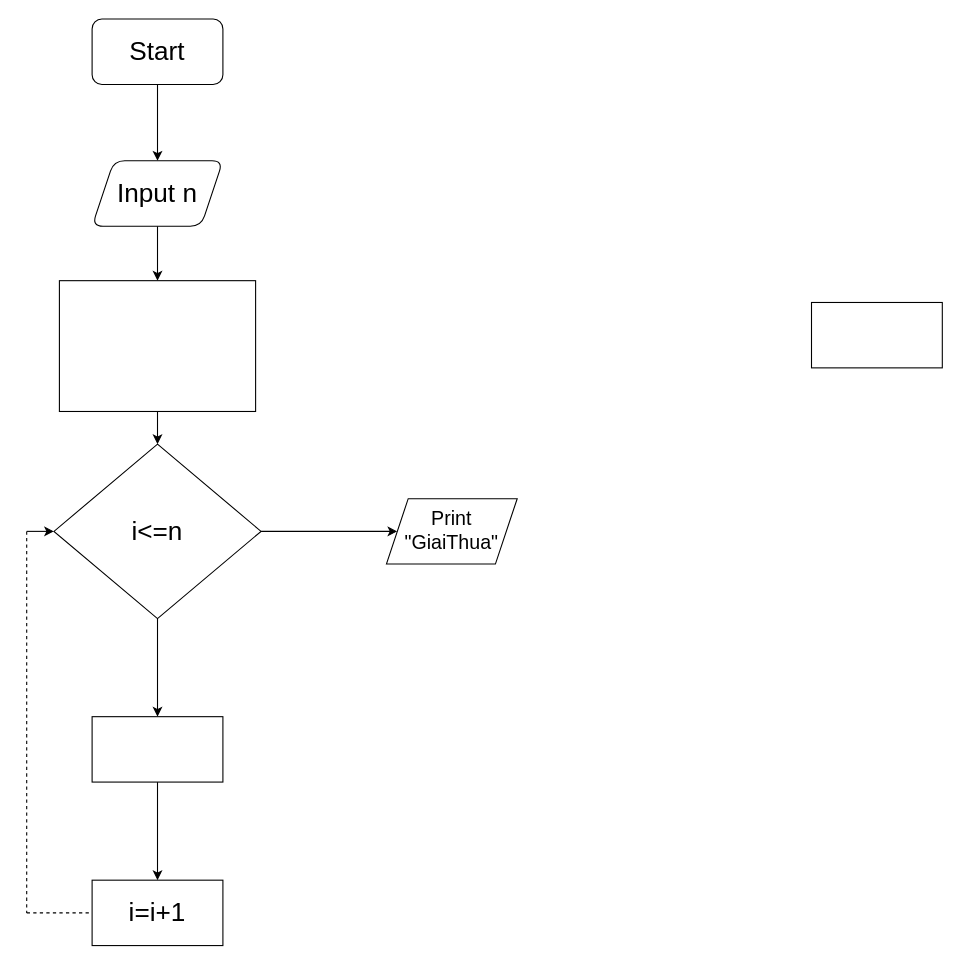
The diagram is 961 pixels wide and 965 high, and some of its shapes have lost their labels. Each missing label, with the centre of its shape:
GiaiThua=GiaiThua*i HaiMuN=HaiMuN*i: point 157,749
i=1 GiaiThua=1 HaiMuN=1: point 157,345
